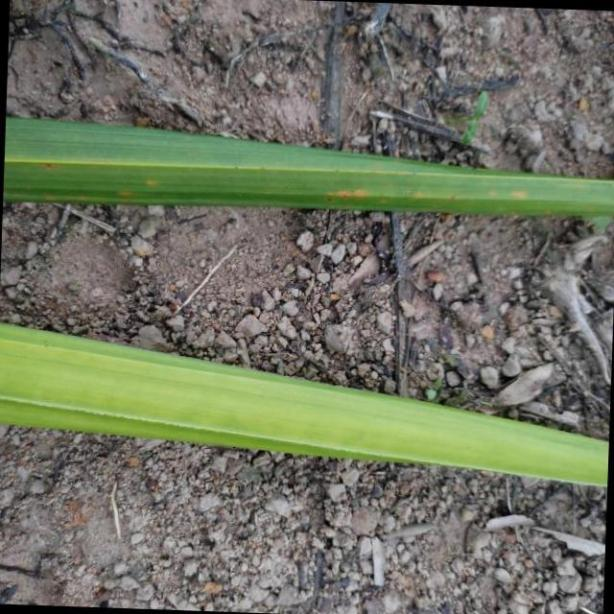nitrogen: (4, 320, 612, 494), (7, 111, 614, 221)
